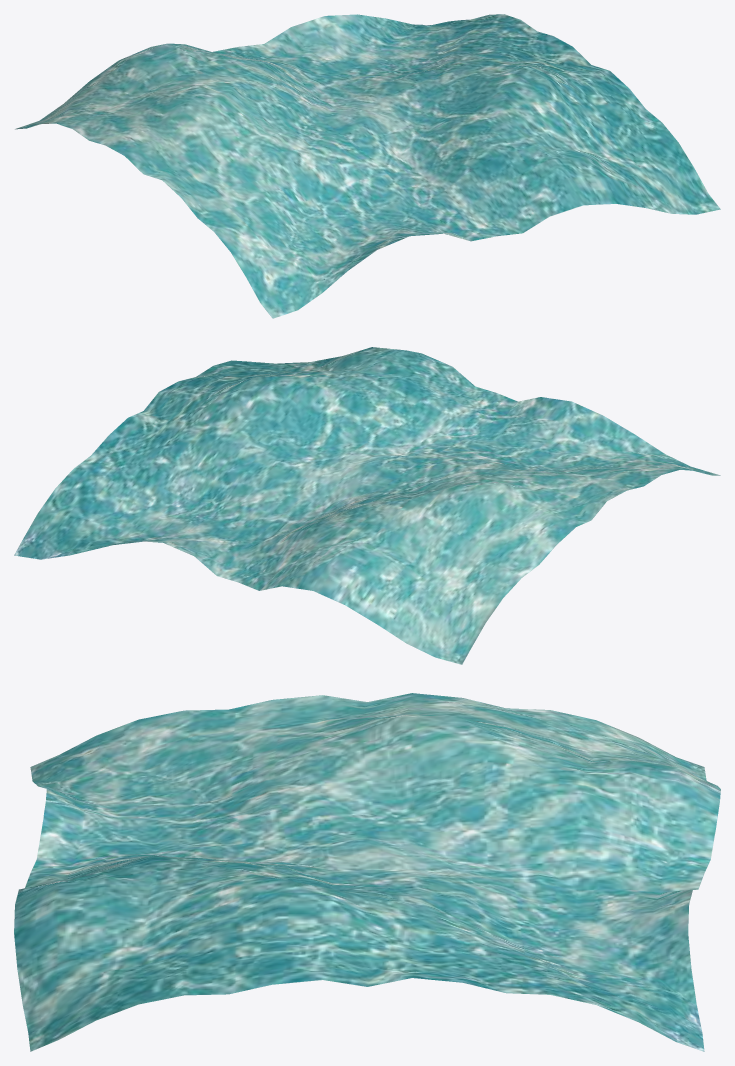
Rendered from water_000153.obj.
The picture shows the model from 3 angles, top to bottom: view 1: azimuth 30°, elevation 25°; view 2: azimuth 150°, elevation 25°; view 3: azimuth 270°, elevation 25°; orthographic projection. The views are drawn at different scales.
Parts seen in each view (by area): view 1: Plan.003_Plan.001; view 2: Plan.003_Plan.001; view 3: Plan.003_Plan.001.
Boxes of the visible parts, bbox=[...] form: Plan.003_Plan.001: bbox=[15, 14, 720, 318]; Plan.003_Plan.001: bbox=[14, 347, 720, 664]; Plan.003_Plan.001: bbox=[14, 693, 720, 1051].
Bounding box in the file's own units: 60790 × 9950 × 63274.
Materials: 1 (1 with a texture image).
